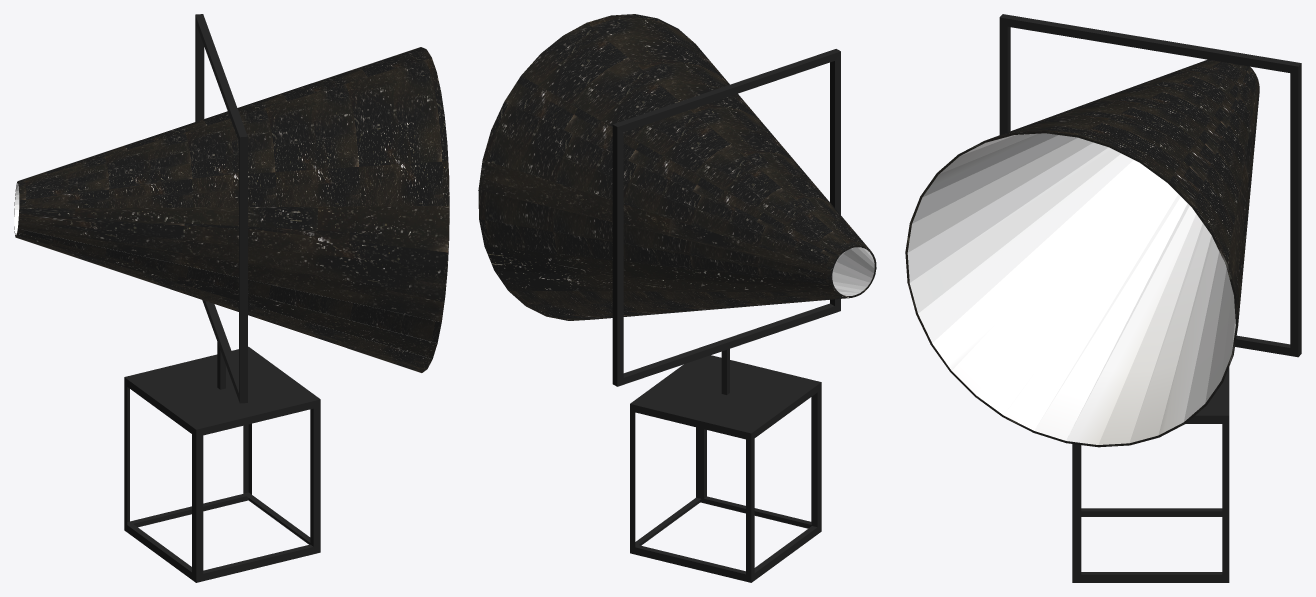
Rendered from fluesterkonus.glb.
3 renders of one model, left to right at view 1: azimuth 30°, elevation 25°; view 2: azimuth 150°, elevation 25°; view 3: azimuth 270°, elevation 25°, orthographic. The views are drawn at different scales.
Parts seen in each view (by area): view 1: horn.001, Cube, frame; view 2: horn.001, Cube, frame; view 3: horn.001, frame, Cube.
Boxes of the visible parts, x1=… form: horn.001: x1=14, y1=47, x2=449, y2=372; Cube: x1=124, y1=346, x2=320, y2=582; frame: x1=195, y1=14, x2=247, y2=403; horn.001: x1=478, y1=14, x2=876, y2=320; Cube: x1=630, y1=355, x2=821, y2=582; frame: x1=612, y1=49, x2=840, y2=386; horn.001: x1=905, y1=59, x2=1259, y2=447; frame: x1=999, y1=14, x2=1301, y2=357; Cube: x1=1072, y1=367, x2=1229, y2=582.
Size of the model in its own units: 1.49 by 1.69 by 1.19.
Materials: 2 (1 with a texture image).
